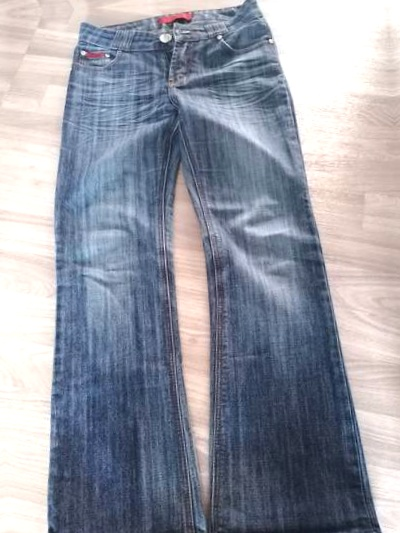Pants: (26, 0, 397, 533), (0, 0, 360, 2)
